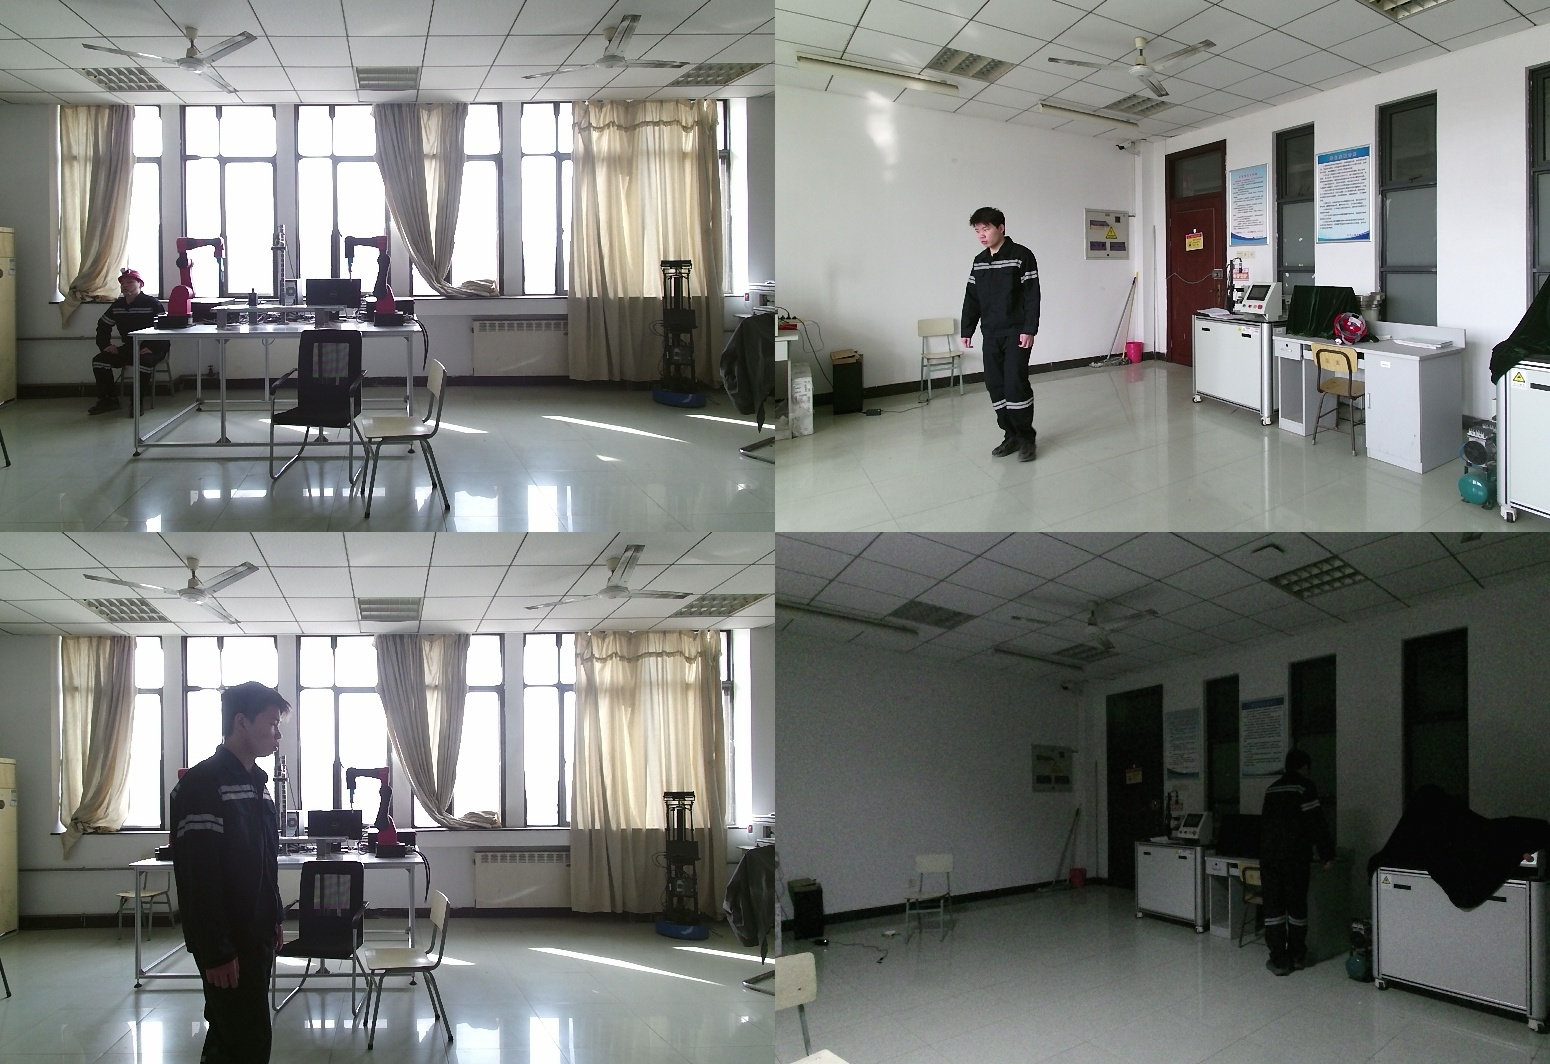person: (170, 683, 290, 1064), (962, 207, 1064, 458), (1259, 748, 1341, 974), (80, 270, 179, 415)
